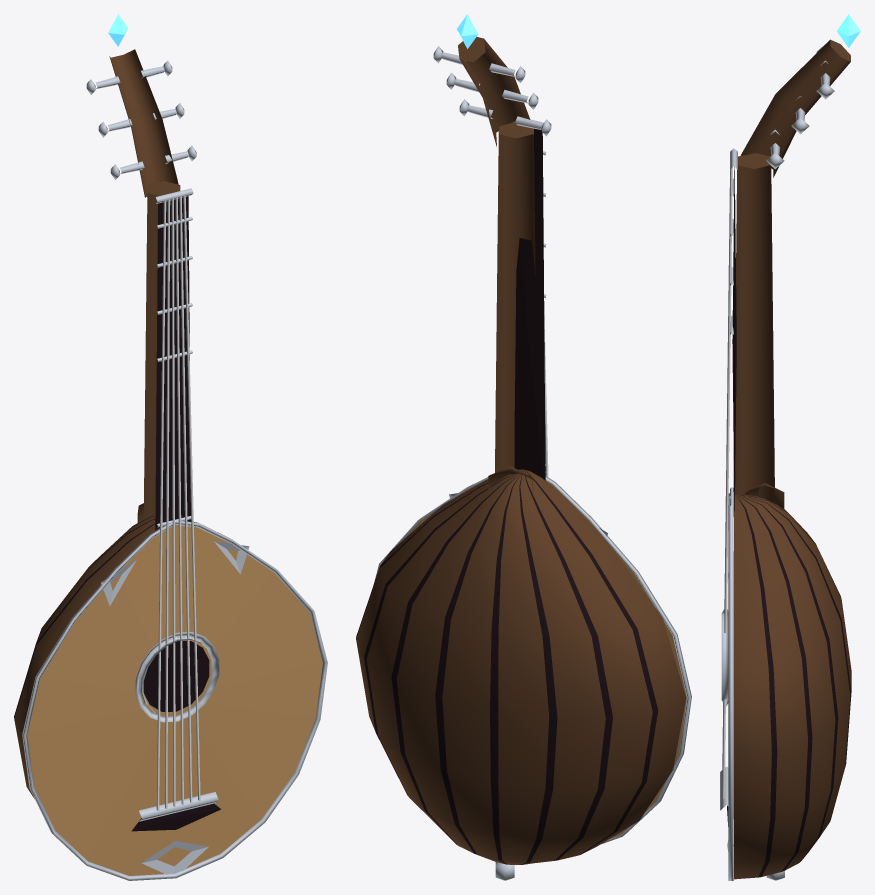
File: lute_1.glb
The picture shows the model from 3 angles, left to right: view 1: azimuth 30°, elevation 25°; view 2: azimuth 150°, elevation 25°; view 3: azimuth 270°, elevation 25°; orthographic projection. The views are drawn at different scales.
Visible parts, largest first — view 1: lute_1; view 2: lute_1; view 3: lute_1.
Boxes of the visible parts, left/top/right/bottom form: lute_1: left=14, top=14, right=327, bottom=880; lute_1: left=356, top=14, right=691, bottom=880; lute_1: left=720, top=14, right=860, bottom=880.
Size of the model in its own units: 0.2688 by 0.708 by 0.1043.
